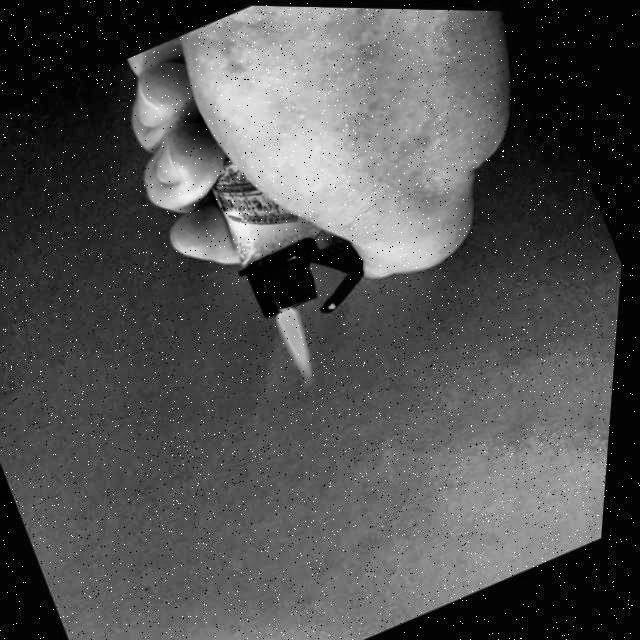Fire: (266, 299, 336, 390)
